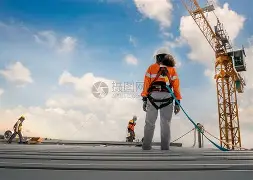safety belt: (143, 64, 178, 110)
safety belt2: (147, 68, 175, 106)
